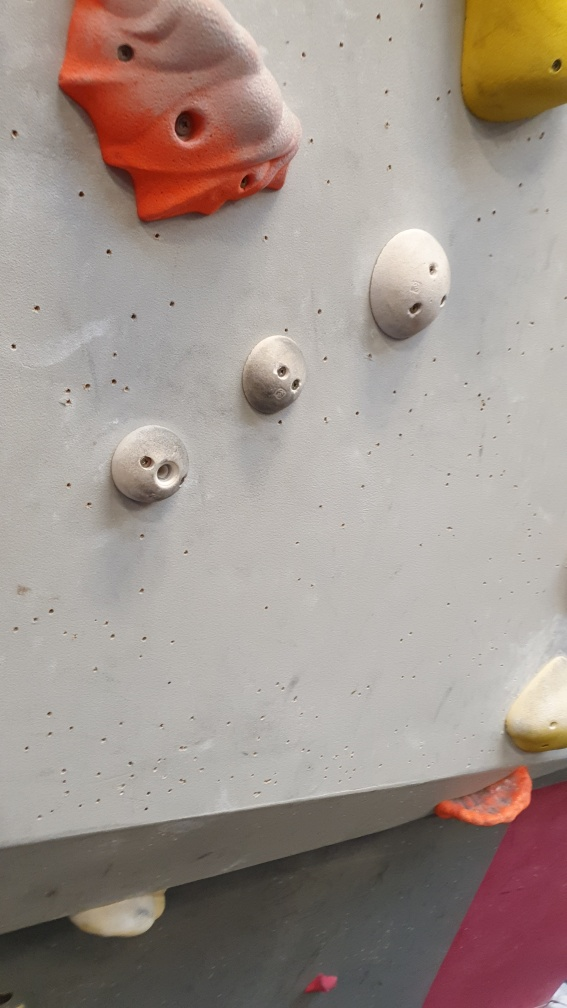Jug: (39, 1, 305, 235), (427, 762, 540, 831)
Sloper: (367, 225, 455, 343), (106, 422, 193, 508), (242, 333, 312, 419)
